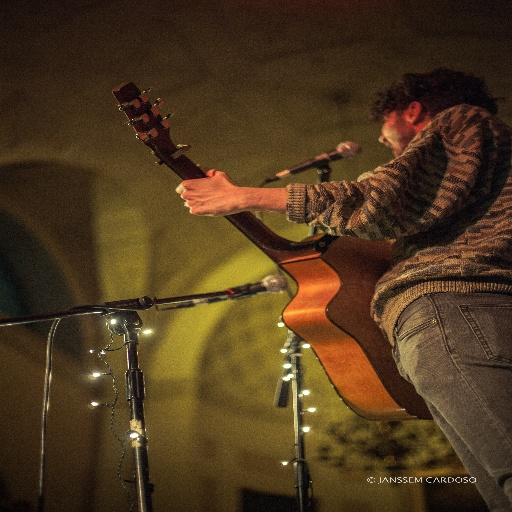hand: (173, 162, 249, 217)
